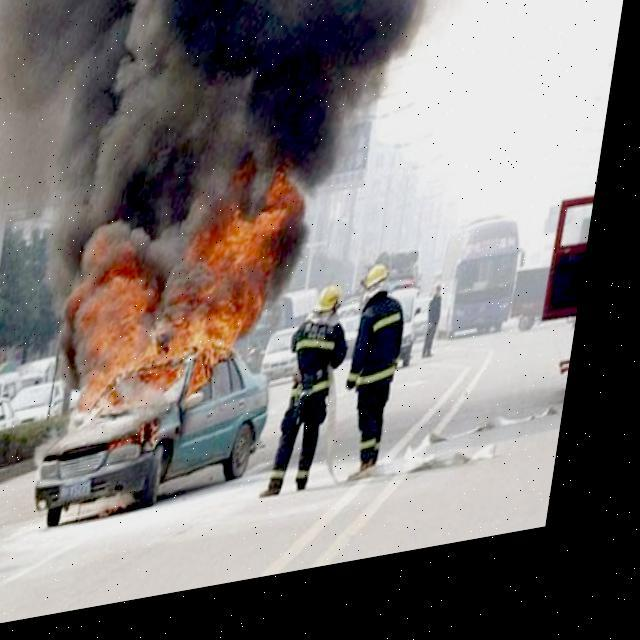Fire: (60, 187, 317, 468)
